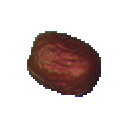gd: (17, 19, 128, 124)
